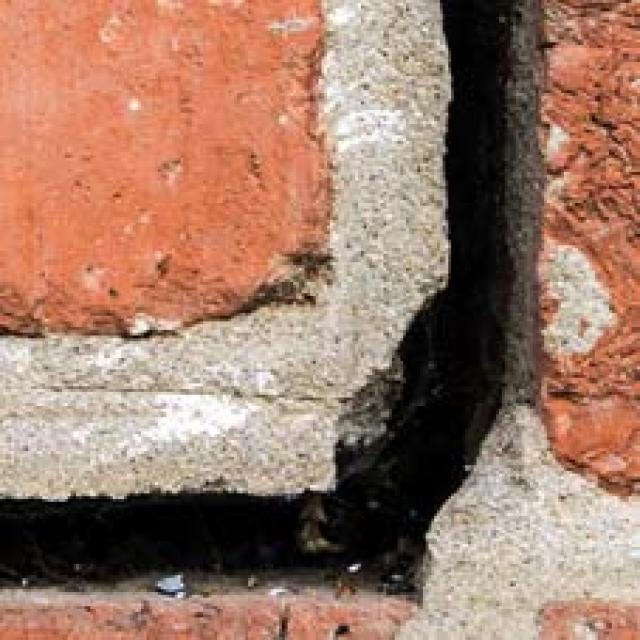Crack: (0, 0, 577, 640)
